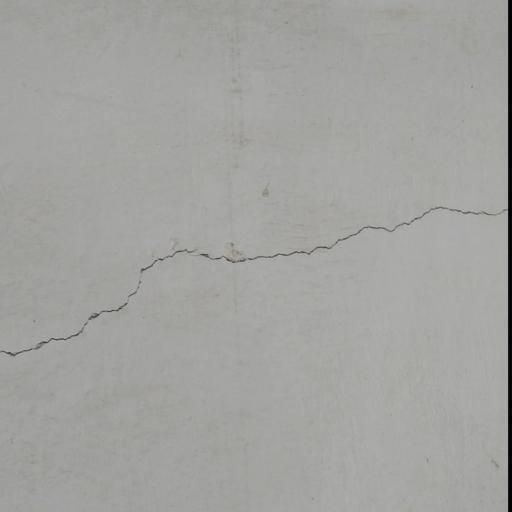minor_crack: (0, 198, 512, 362)
